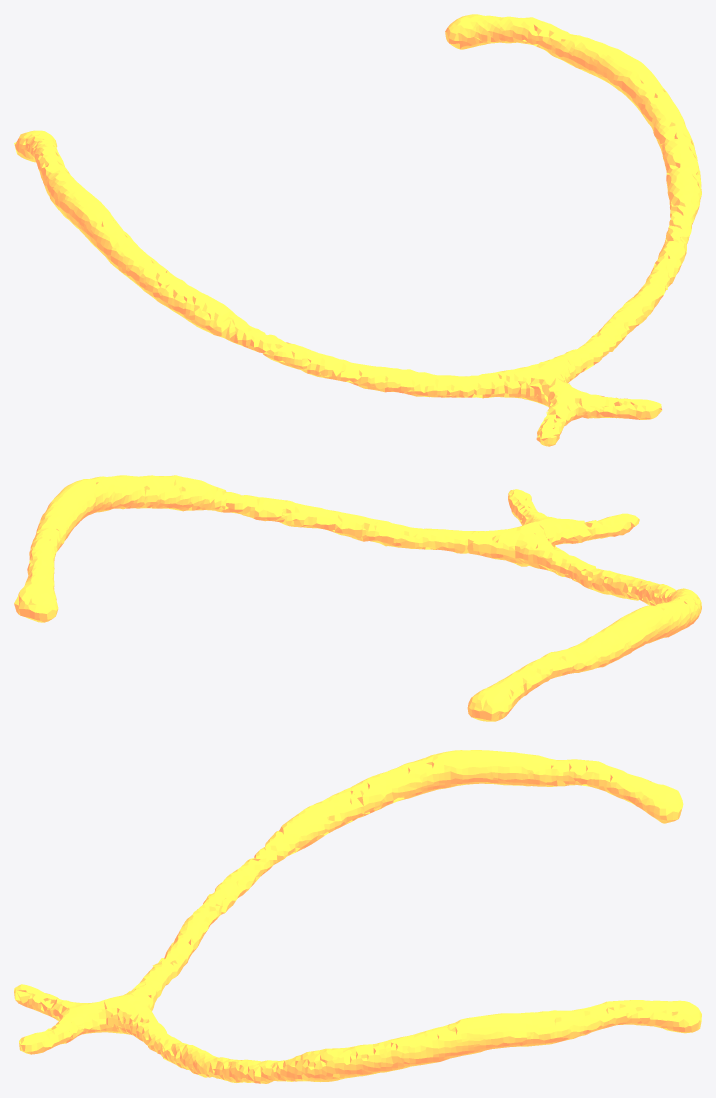
The picture shows the model from 3 angles, top to bottom: view 1: azimuth 30°, elevation 25°; view 2: azimuth 150°, elevation 25°; view 3: azimuth 270°, elevation 25°; orthographic projection.
Visible parts, largest first — view 1: vv.007; view 2: vv.007; view 3: vv.007.
Boxes of the visible parts, x1,y1,x2,y2 form: vv.007: [14, 14, 701, 446]; vv.007: [14, 475, 701, 721]; vv.007: [14, 750, 701, 1083].
Size of the model in its own units: 0.1572 by 0.0381 by 0.1632.
